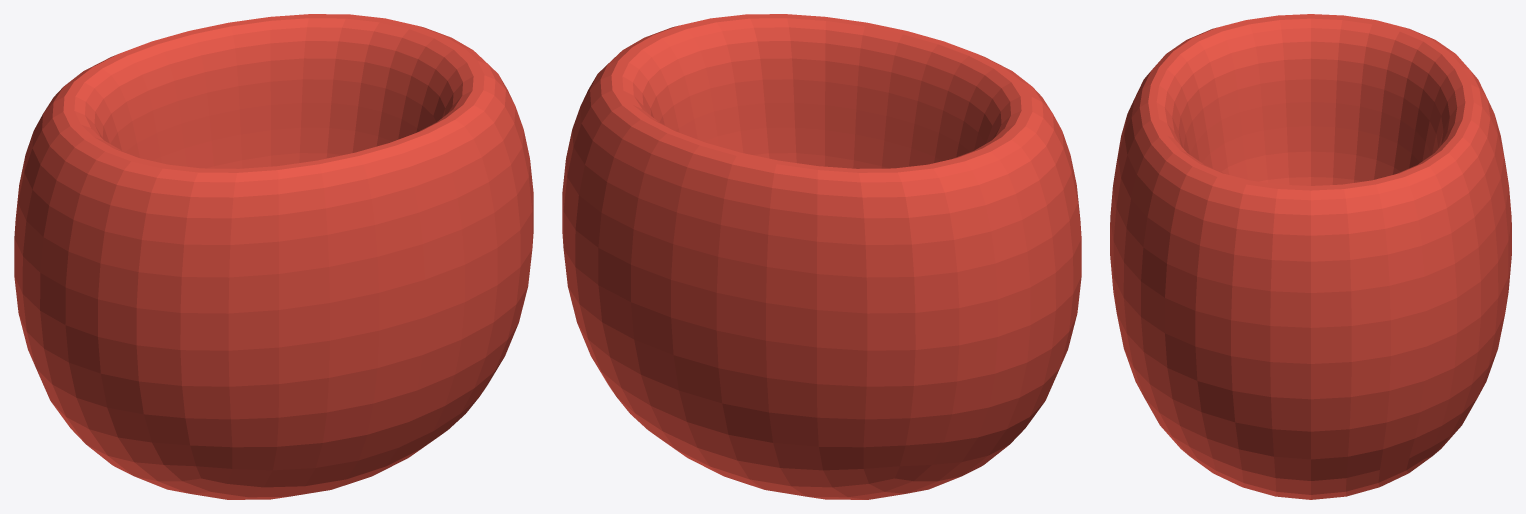
Rendered from bowl.gltf.
The picture shows the model from 3 angles, left to right: view 1: azimuth 30°, elevation 25°; view 2: azimuth 150°, elevation 25°; view 3: azimuth 270°, elevation 25°; orthographic projection. The views are drawn at different scales.
Parts seen in each view (by area): view 1: Cube; view 2: Cube; view 3: Cube.
Boxes of the visible parts, x1=… form: Cube: x1=14, y1=14, x2=533, y2=499; Cube: x1=562, y1=14, x2=1081, y2=499; Cube: x1=1110, y1=14, x2=1511, y2=499.
Size of the model in its own units: 2.27 by 1.77 by 1.77.
